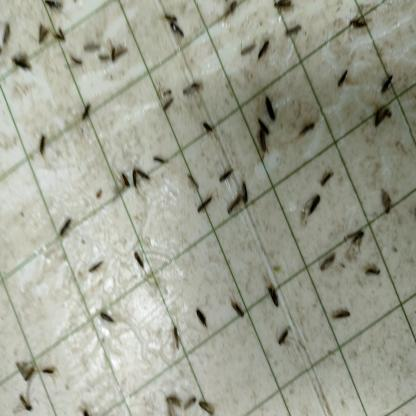prays_oleae: (93, 301, 123, 332), (300, 113, 321, 146), (328, 303, 353, 329), (261, 285, 283, 314), (230, 294, 248, 329), (136, 160, 154, 195), (168, 18, 192, 44), (273, 323, 293, 353), (348, 14, 373, 36), (195, 307, 213, 337), (186, 168, 201, 201), (11, 48, 29, 75), (348, 228, 365, 256), (102, 45, 125, 65), (318, 249, 335, 276), (374, 101, 391, 128), (184, 77, 202, 101), (256, 128, 270, 157), (196, 192, 216, 212), (279, 22, 312, 34), (116, 166, 130, 194), (127, 246, 146, 266), (264, 95, 278, 122), (163, 394, 184, 412), (13, 364, 34, 382), (59, 217, 74, 242), (334, 67, 349, 92), (68, 52, 86, 72), (86, 253, 104, 273), (40, 361, 58, 381), (217, 163, 233, 184), (79, 104, 94, 126), (0, 22, 12, 49), (240, 182, 254, 205), (320, 164, 334, 187), (226, 192, 242, 212), (18, 392, 34, 412), (257, 36, 270, 60), (360, 266, 382, 280), (151, 151, 167, 170), (308, 190, 320, 214), (130, 159, 139, 191), (52, 26, 64, 48), (163, 98, 176, 118), (201, 117, 215, 135), (171, 322, 180, 350), (162, 9, 178, 23), (185, 396, 199, 412), (382, 72, 393, 92), (38, 137, 48, 158), (200, 397, 214, 412), (38, 24, 48, 44)
